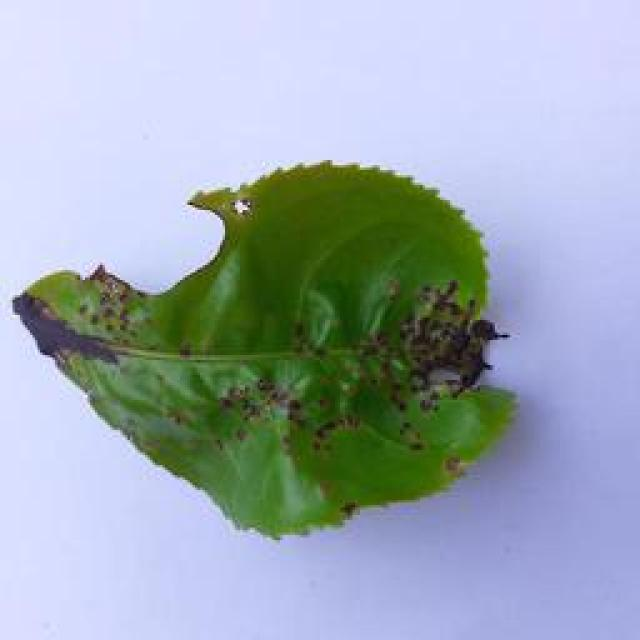Helopeltis: (28, 151, 528, 555)
